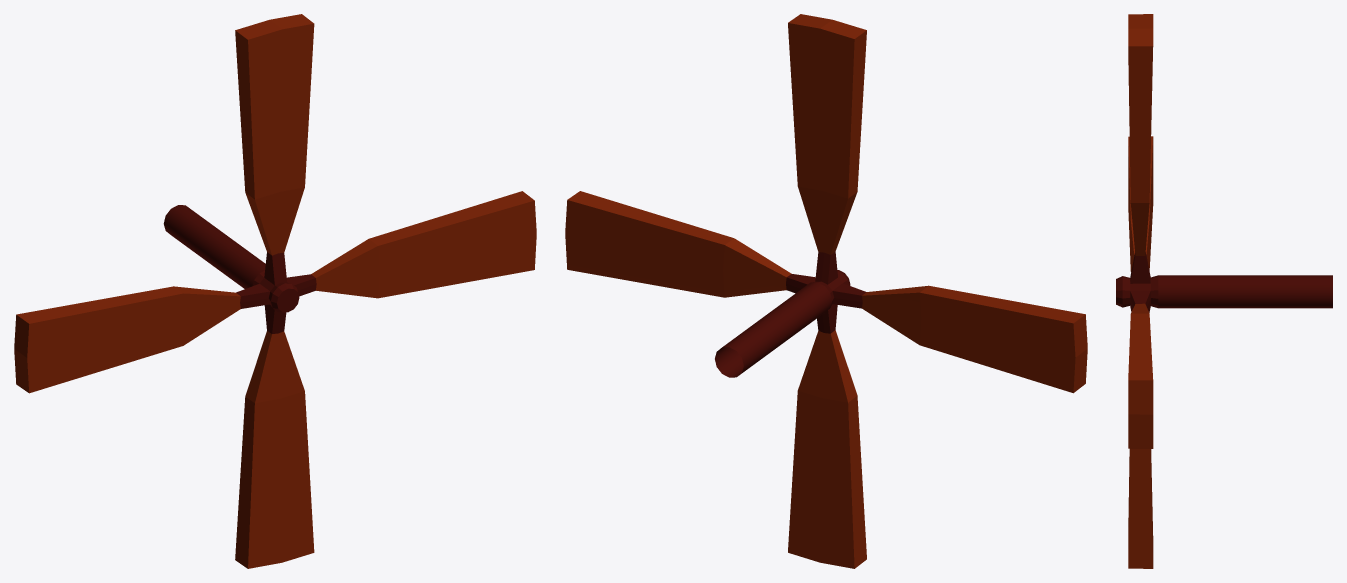
File: blade.obj
3 views of the same model, side by side, from view 1: azimuth 30°, elevation 25°; view 2: azimuth 150°, elevation 25°; view 3: azimuth 270°, elevation 25° (orthographic).
Visible parts, largest first — view 1: Cylinder.001_Cylinder.005; view 2: Cylinder.001_Cylinder.005; view 3: Cylinder.001_Cylinder.005.
Part boxes in pixels (left/top/right/bottom): Cylinder.001_Cylinder.005: left=14, top=14, right=536, bottom=568; Cylinder.001_Cylinder.005: left=565, top=14, right=1087, bottom=568; Cylinder.001_Cylinder.005: left=1116, top=14, right=1332, bottom=568.
Bounding box in the file's own units: 5.89 × 5.89 × 2.2.
